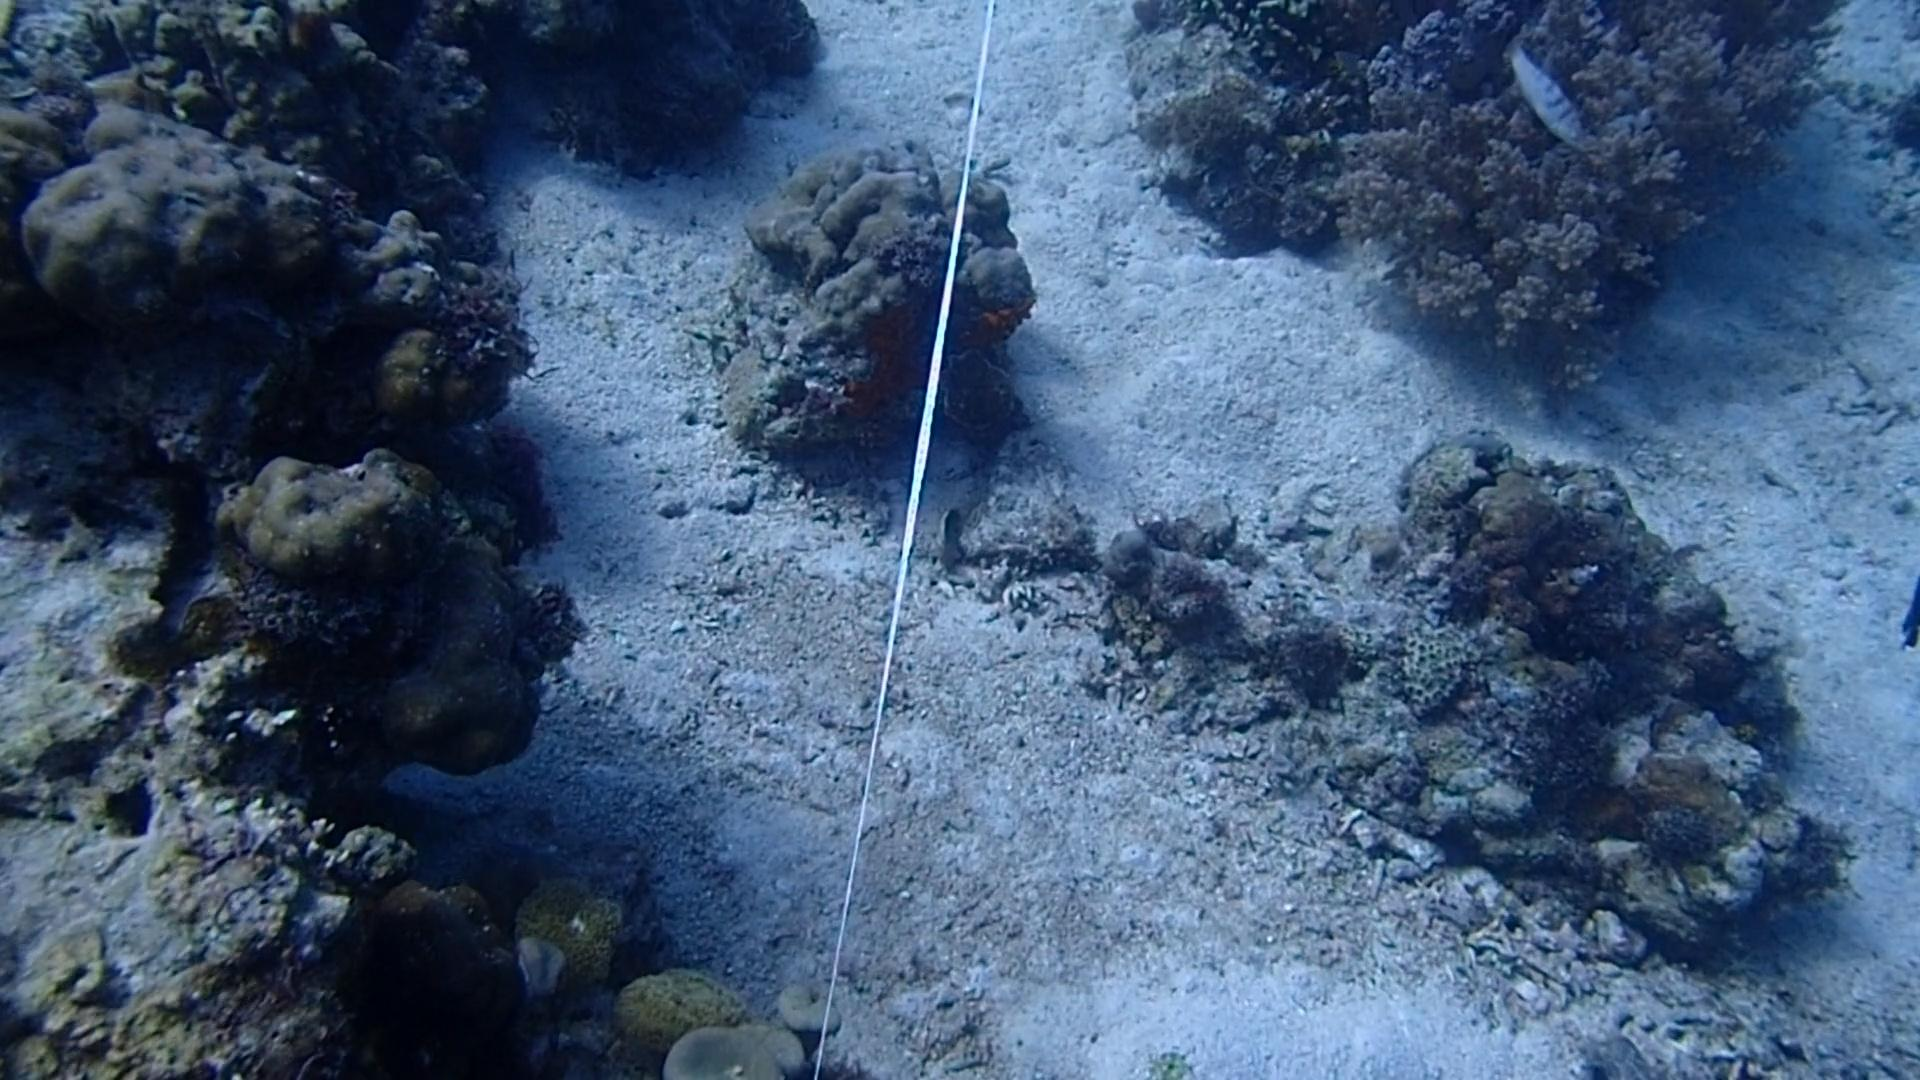Light Fish w Back Stripes: (1498, 26, 1592, 150)
